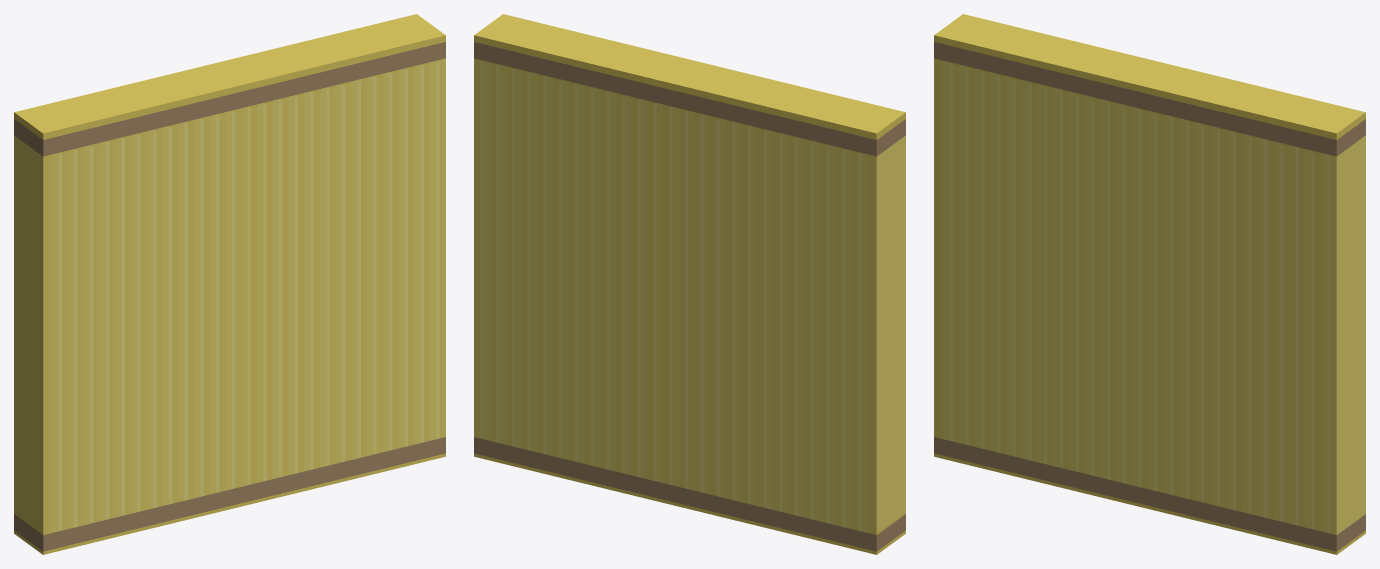
File: Wall.obj
3 renders of one model, left to right at view 1: azimuth 30°, elevation 25°; view 2: azimuth 150°, elevation 25°; view 3: azimuth 330°, elevation 25°, orthographic.
Size of the model in its own units: 25.6 by 25.6 by 3.2.
Materials: 1 (1 with a texture image).
